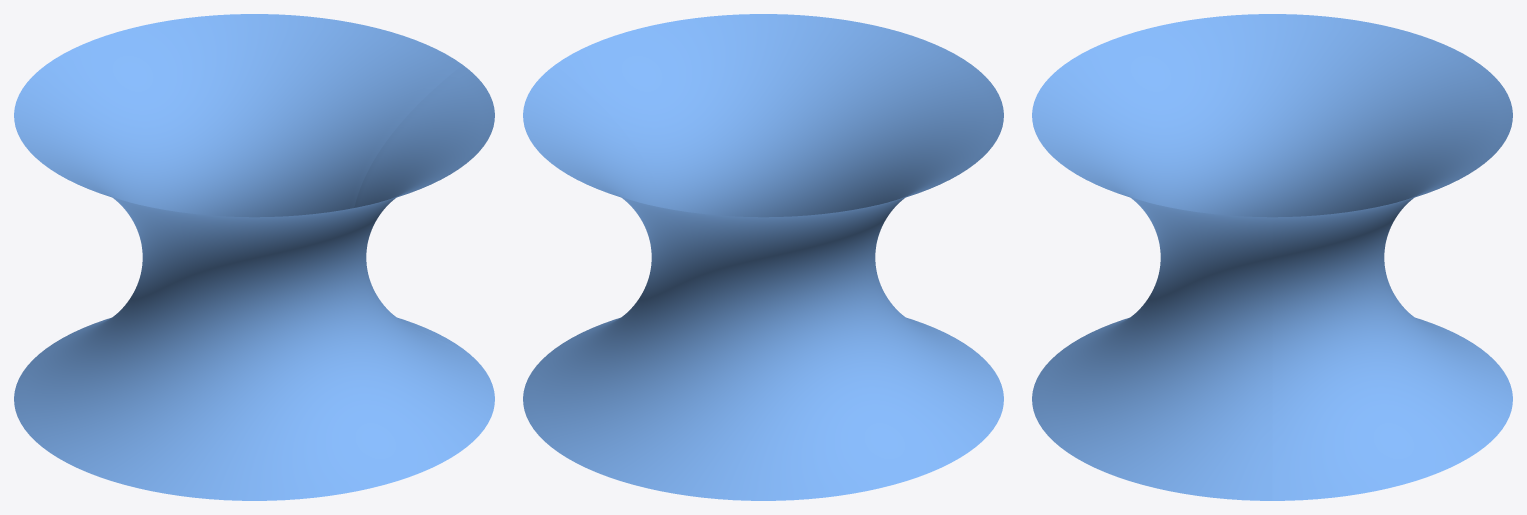
File: catenoid.glb
3 views of the same model, side by side, from view 1: azimuth 30°, elevation 25°; view 2: azimuth 150°, elevation 25°; view 3: azimuth 270°, elevation 25° (orthographic).
Bounding box in the file's own units: 0.6451 × 0.42 × 0.6452.
